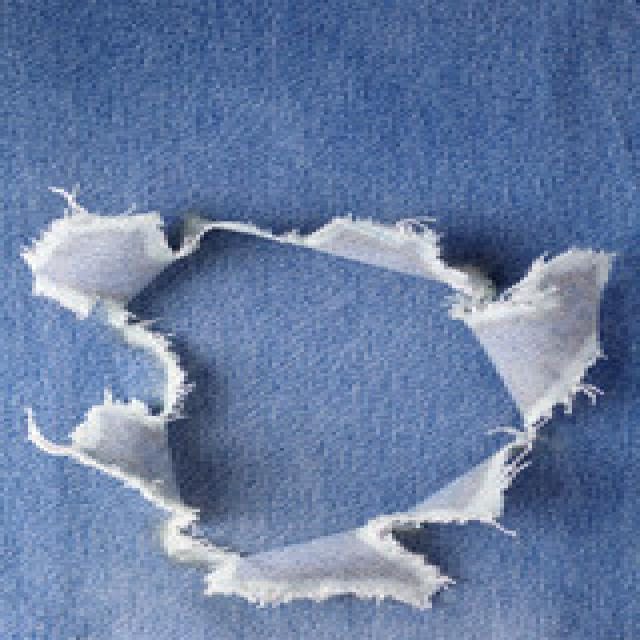Hole: (22, 192, 613, 609)
